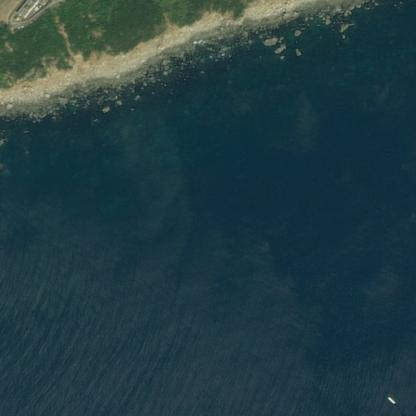ship: (382, 391, 399, 407)
